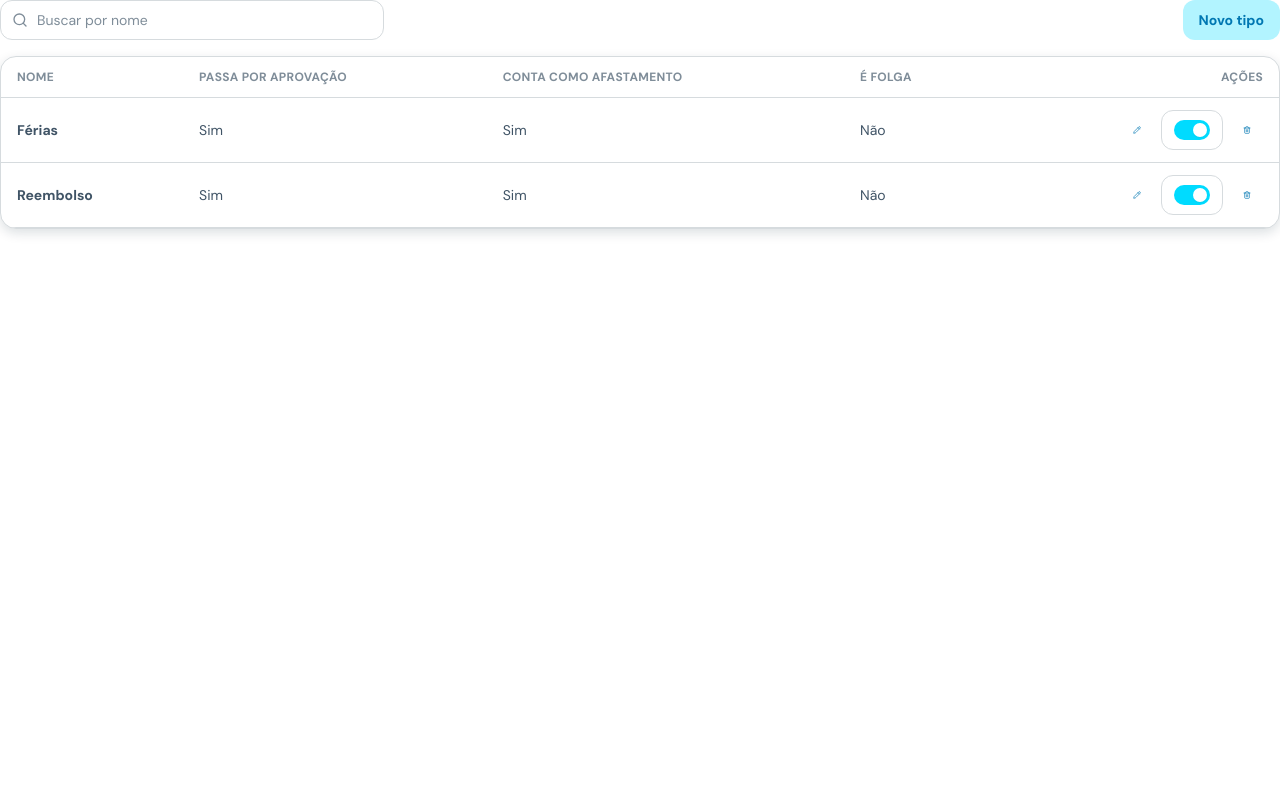
TiposSolicitacaoAdminPage — formulário › shows the copyable public link when editing a type that already has one
Click the button named "Editar Reembolso": [1137, 195] box left=1121, top=179, right=1153, bottom=211
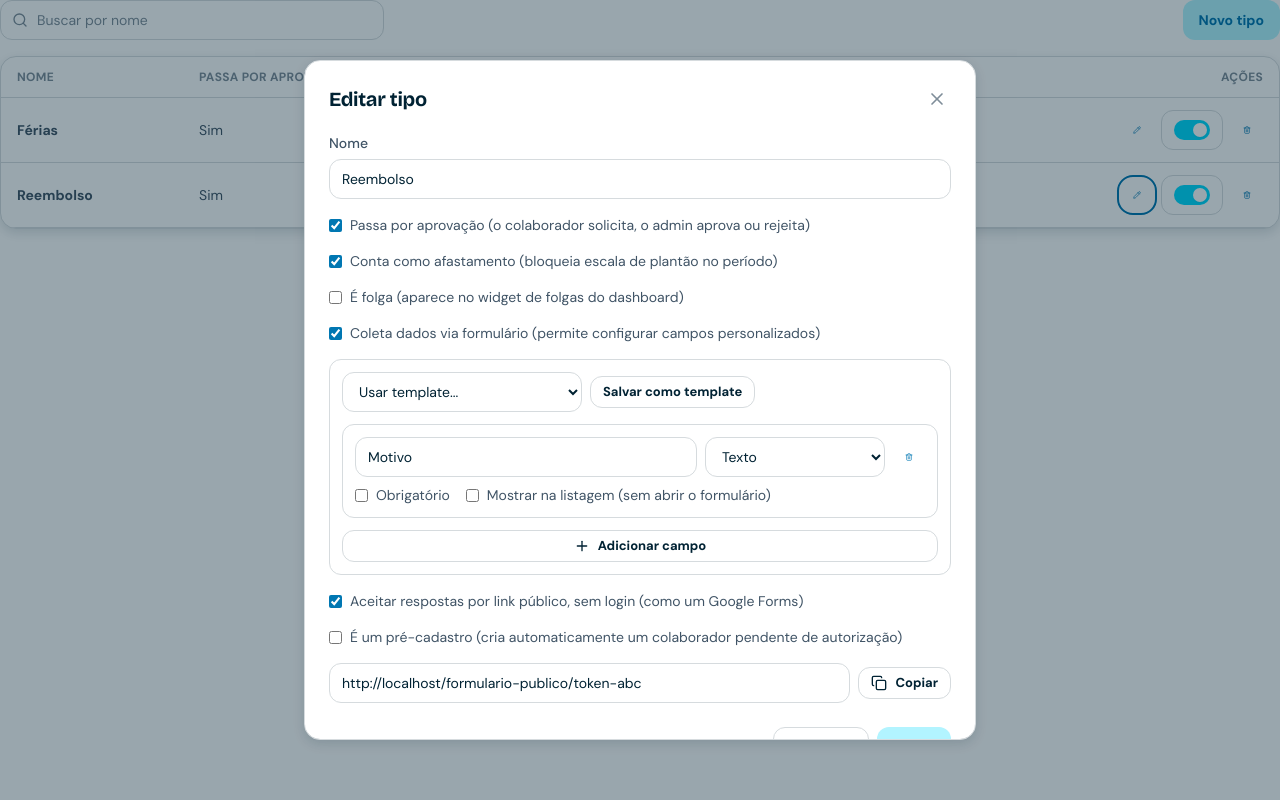
Now the 2nd field showing "/formulario-publico/token-abc" is shown, box left=329, top=663, right=850, bottom=703
